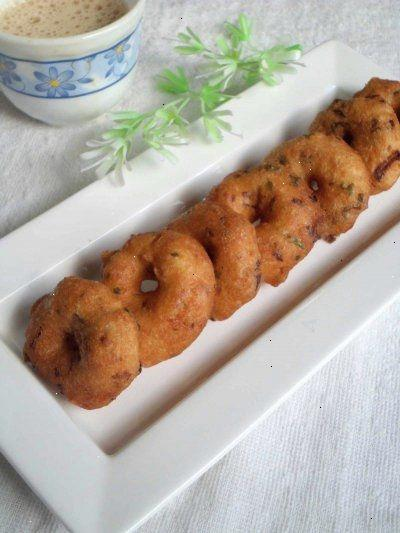medu vada: (22, 225, 264, 390), (203, 119, 400, 248)
